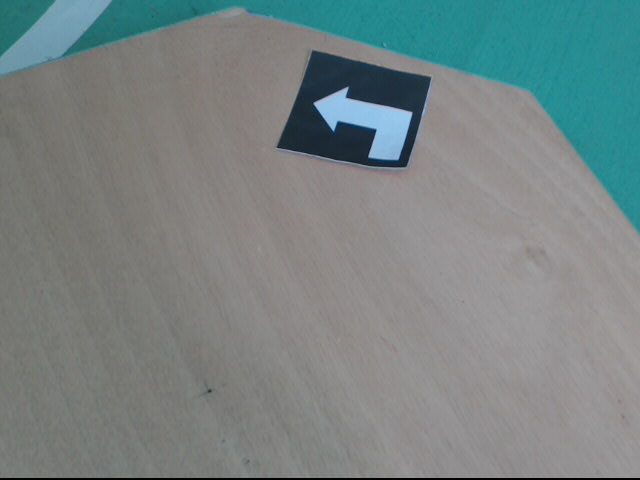left: (277, 49, 433, 173)
